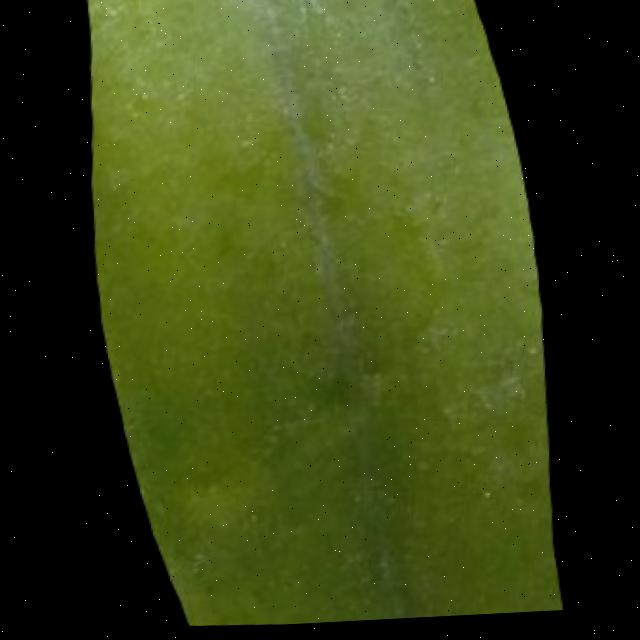mite: (190, 546, 220, 579), (482, 489, 499, 507)
